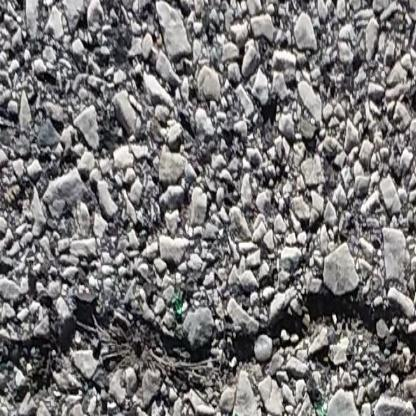Cracks: (0, 289, 416, 416)
